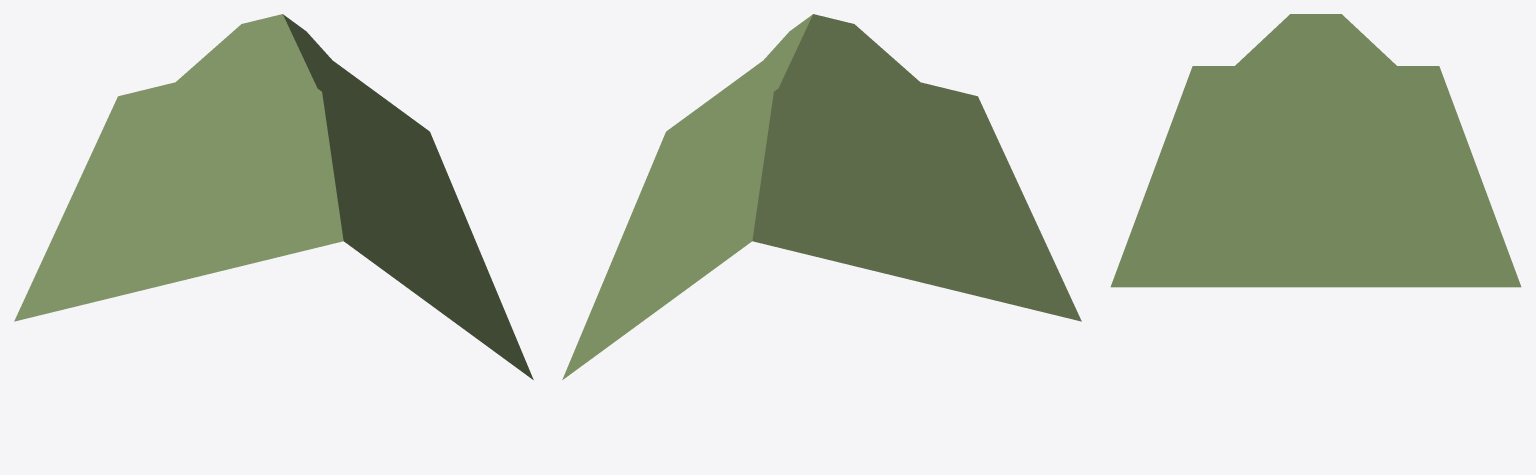
The model's file is bush.glb.
The picture shows the model from 3 angles, left to right: view 1: azimuth 30°, elevation 25°; view 2: azimuth 150°, elevation 25°; view 3: azimuth 270°, elevation 25°; orthographic projection. The views are drawn at different scales.
Visible parts, largest first — view 1: bush; view 2: bush; view 3: bush.
Part boxes in pixels (x1,y1,x2,y2): bush: (14, 14, 533, 379); bush: (562, 14, 1081, 379); bush: (1110, 14, 1521, 287).
Bounding box in the file's own units: 1.6 × 1.5 × 1.6.
